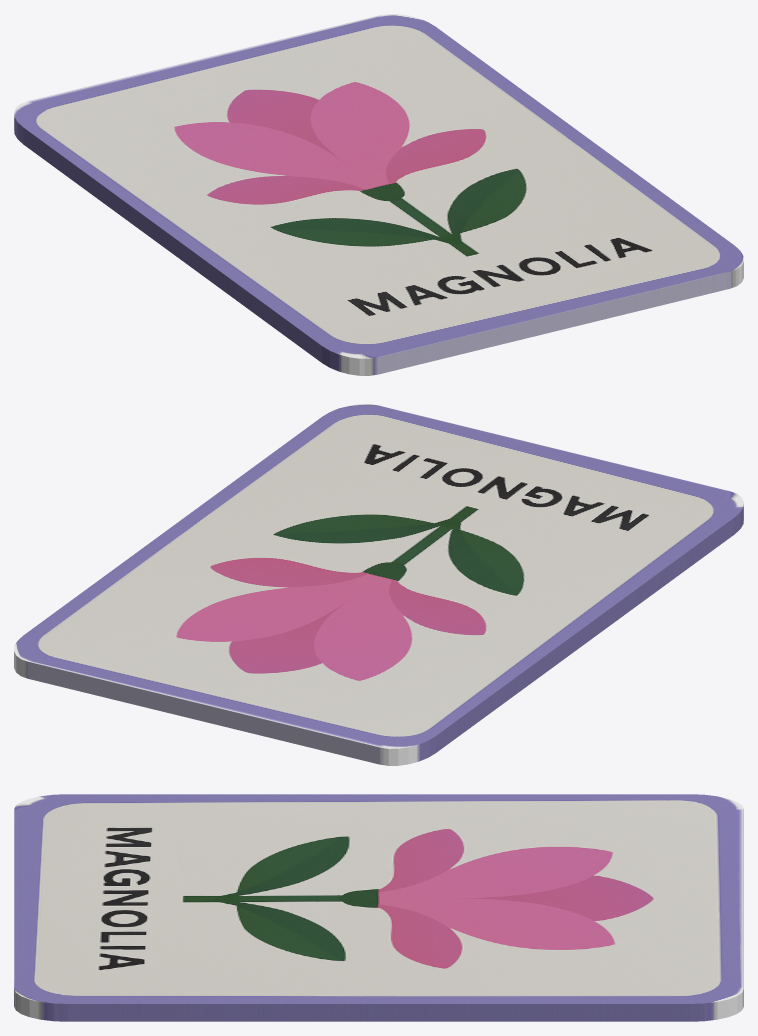
The model's file is carte2.glb.
3 renders of one model, top to bottom at view 1: azimuth 30°, elevation 25°; view 2: azimuth 150°, elevation 25°; view 3: azimuth 270°, elevation 25°, orthographic. The views are drawn at different scales.
Parts seen in each view (by area): view 1: Plane; view 2: Plane; view 3: Plane.
Boxes of the visible parts, <box> form: Plane: <box>14,14,743,375</box>; Plane: <box>14,404,743,765</box>; Plane: <box>14,794,743,1021</box>.
Size of the model in its own units: 1.36 by 0.0539 by 2.
2 materials, 2 textured.
